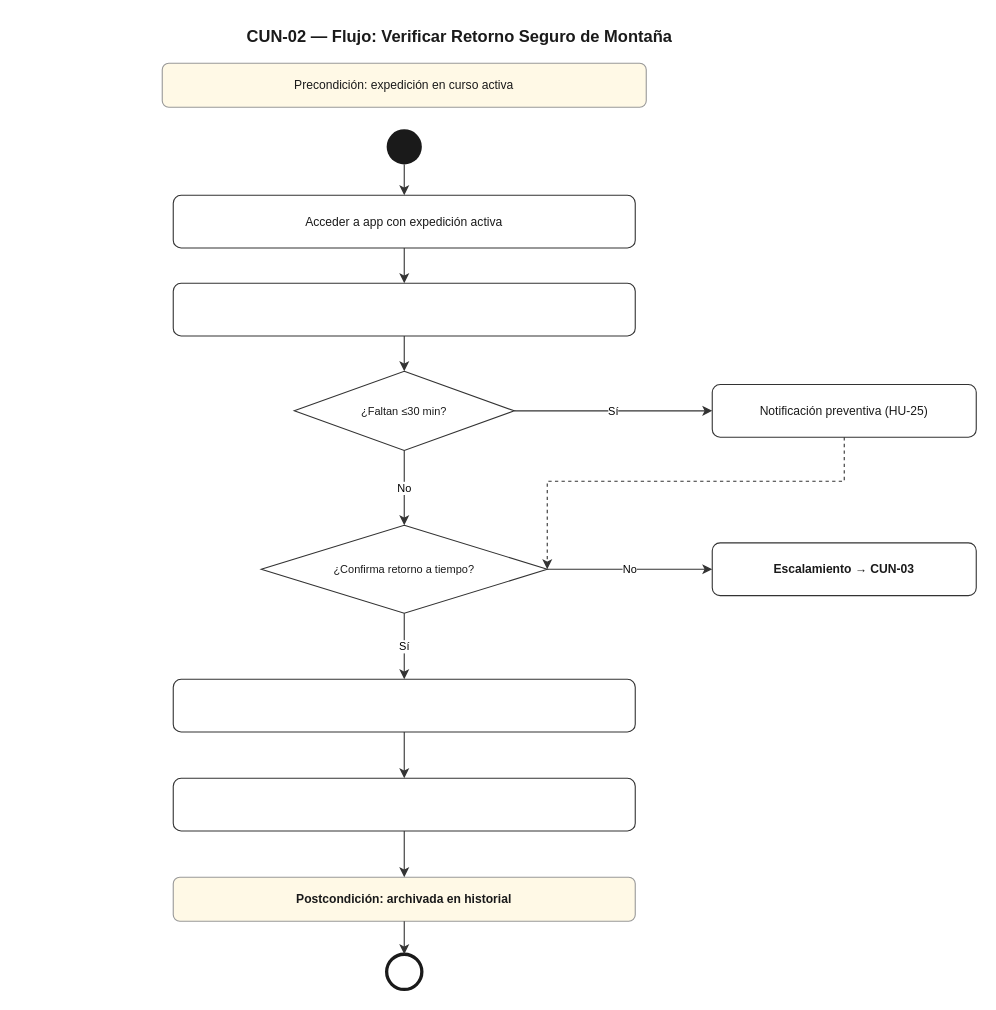
Some shapes in this 996 by 1010 pixel diagram are drawn without their labels. Here are the shapes that lost their labels. From the top down, the centre of each, then its label:
At pixel 403 309: "Visualizar contador de tiempo restante".
At pixel 403 705: "Confirmar retorno seguro (check-in)".
At pixel 403 804: "Finalizar expedición y detener temporizadores".
